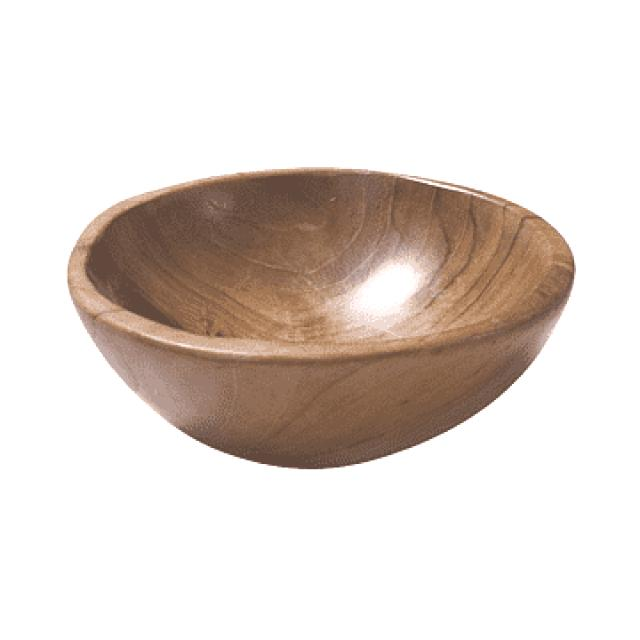Mangkok: (46, 142, 588, 482)
